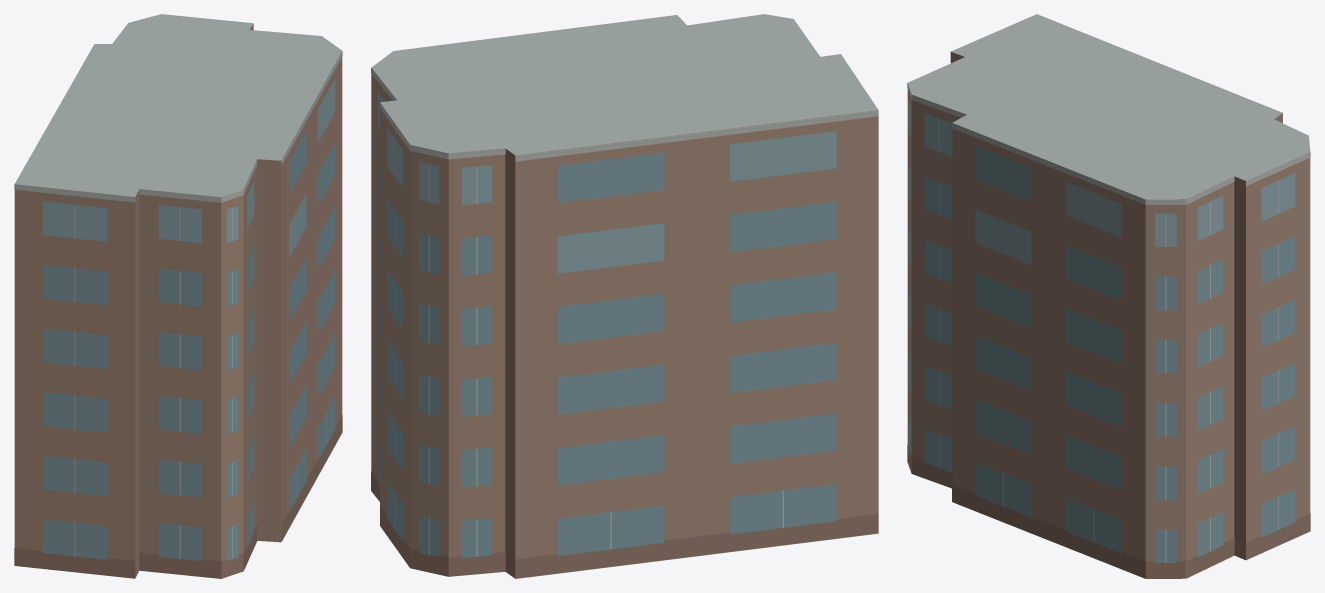
File: survey-upis-32990016.glb
3 renders of one model, left to right at view 1: azimuth 30°, elevation 25°; view 2: azimuth 150°, elevation 25°; view 3: azimuth 270°, elevation 25°, orthographic. The views are drawn at different scales.
Parts seen in each view (by area): view 1: survey-upis-32990016.tmp; view 2: survey-upis-32990016.tmp; view 3: survey-upis-32990016.tmp.
Boxes of the visible parts, <box> form: survey-upis-32990016.tmp: <box>14,14,342,578</box>; survey-upis-32990016.tmp: <box>371,14,878,578</box>; survey-upis-32990016.tmp: <box>907,14,1310,578</box>.
Bounding box in the file's own units: 17.71 × 16.87 × 16.25.
